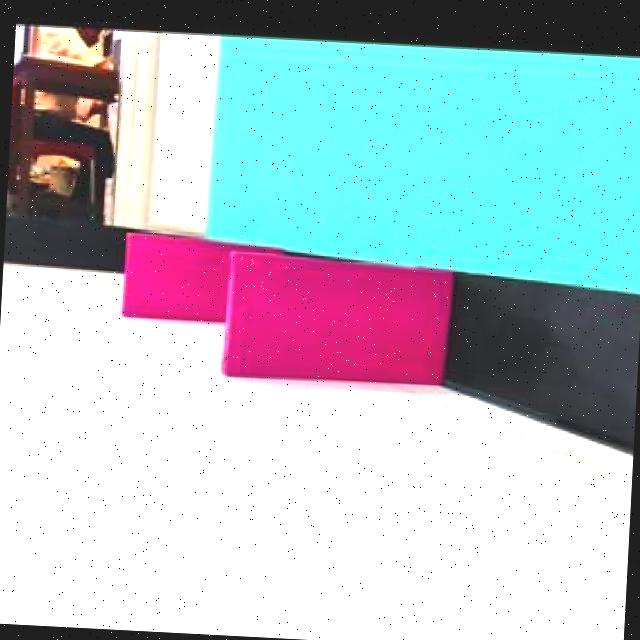xparking: (226, 264, 452, 387), (125, 228, 222, 317)
